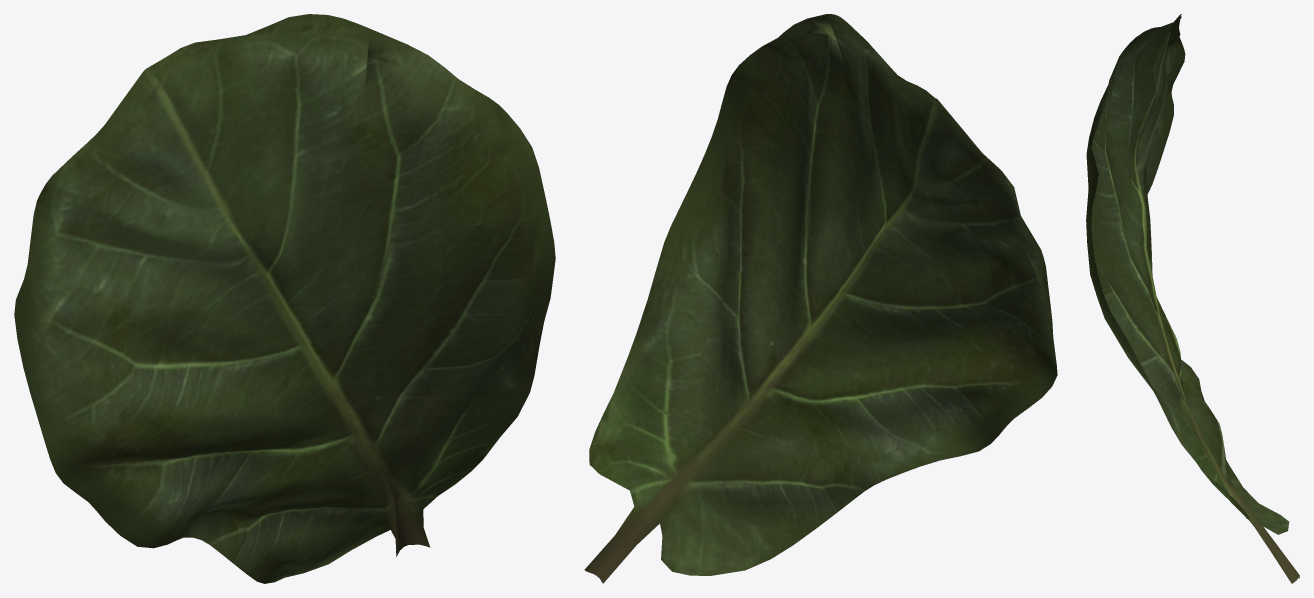
3 views of the same model, side by side, from view 1: azimuth 30°, elevation 25°; view 2: azimuth 150°, elevation 25°; view 3: azimuth 270°, elevation 25° (orthographic). The views are drawn at different scales.
Visible parts, largest first — view 1: G-Plane209 68% 68% 68% 68%.021; view 2: G-Plane209 68% 68% 68% 68%.021; view 3: G-Plane209 68% 68% 68% 68%.021.
Part boxes in pixels (left/top/right/bottom): G-Plane209 68% 68% 68% 68%.021: left=14, top=14, right=555, bottom=583; G-Plane209 68% 68% 68% 68%.021: left=584, top=14, right=1057, bottom=583; G-Plane209 68% 68% 68% 68%.021: left=1086, top=14, right=1299, bottom=583.
Bounding box in the file's own units: 1.02 × 1.24 × 0.5033.
Materials: 1 (1 with a texture image).
